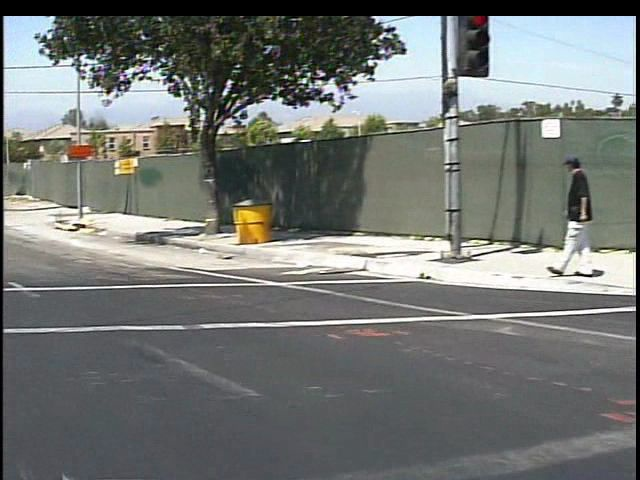person: (539, 146, 592, 288)
